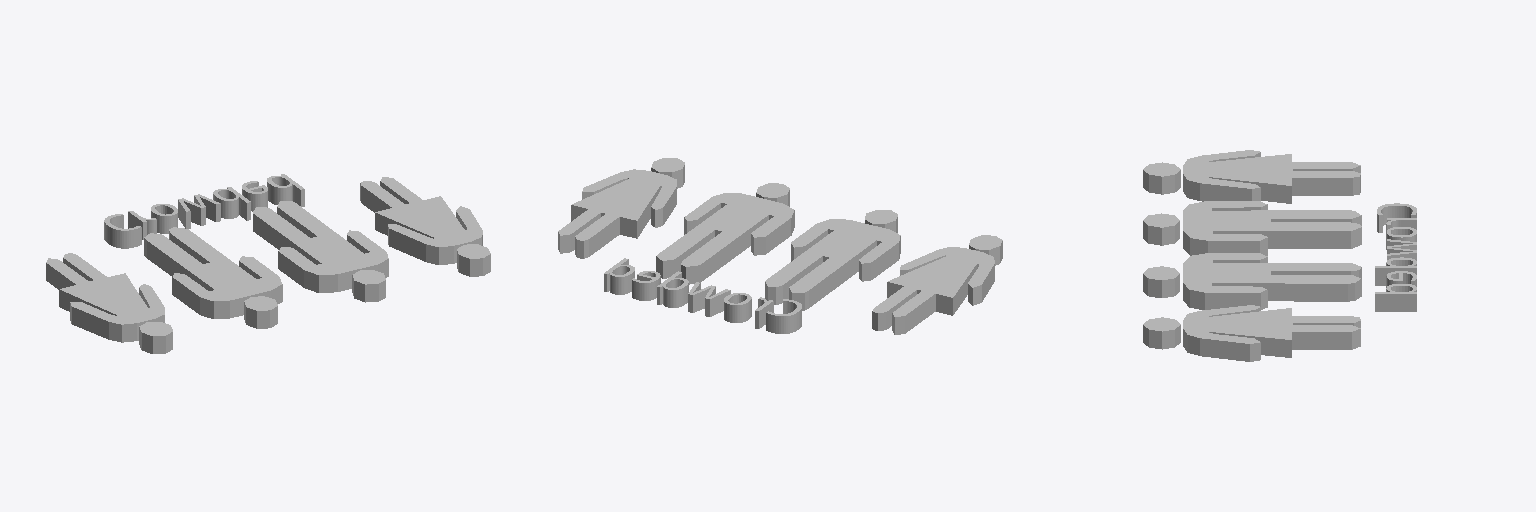
File: crowd_title.obj
3 views of the same model, side by side, from view 1: azimuth 30°, elevation 25°; view 2: azimuth 150°, elevation 25°; view 3: azimuth 270°, elevation 25° (orthographic).
Parts seen in each view (by area): view 1: obj_0; view 2: obj_0; view 3: obj_0.
Boxes of the visible parts, x1=… form: obj_0: x1=46, y1=174, x2=490, y2=353; obj_0: x1=558, y1=158, x2=1002, y2=334; obj_0: x1=1143, y1=150, x2=1416, y2=361.
Bounding box in the file's own units: 232 × 10 × 138.